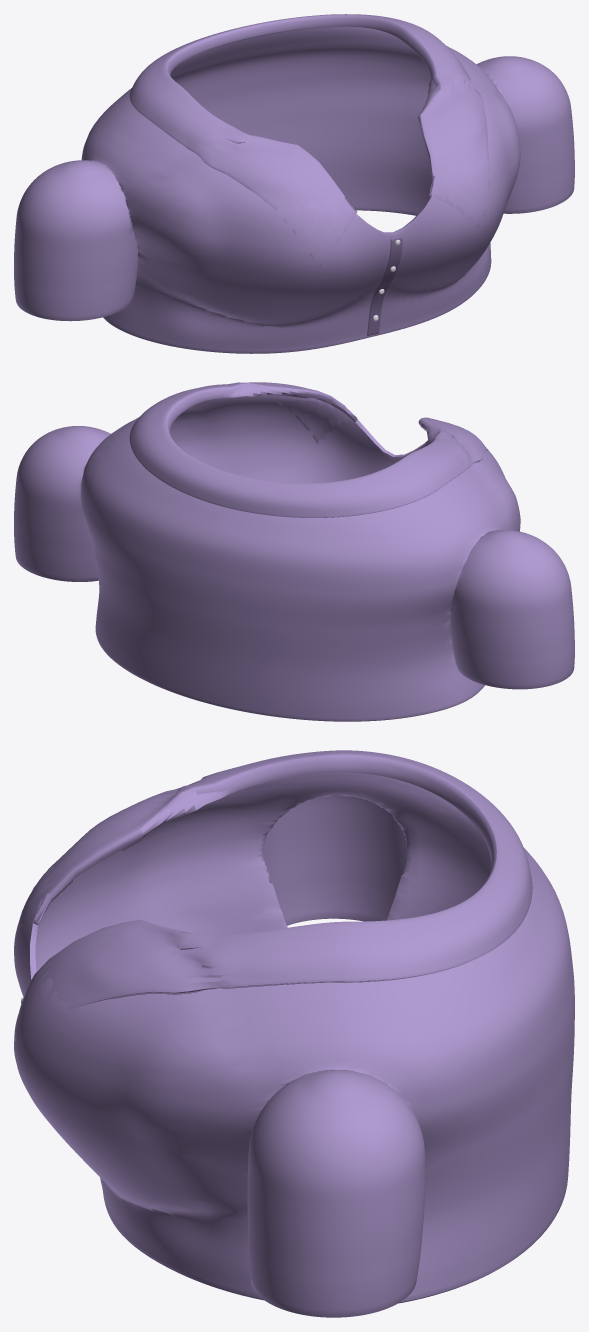
File: Feminine-open-top.glb
3 renders of one model, top to bottom at view 1: azimuth 30°, elevation 25°; view 2: azimuth 150°, elevation 25°; view 3: azimuth 270°, elevation 25°, orthographic. The views are drawn at different scales.
Visible parts, largest first — view 1: Clothing / joined open186, Button-up / lower closed placket; view 2: Clothing / joined open186; view 3: Clothing / joined open186.
Boxes of the visible parts, x1,y1,x2,y2 form: Clothing / joined open186: (14,14,574,353); Button-up / lower closed placket: (367,236,402,335); Clothing / joined open186: (14,382,574,721); Clothing / joined open186: (14,750,574,1317).
Size of the model in its own units: 0.9262 by 0.3605 by 0.5453.
